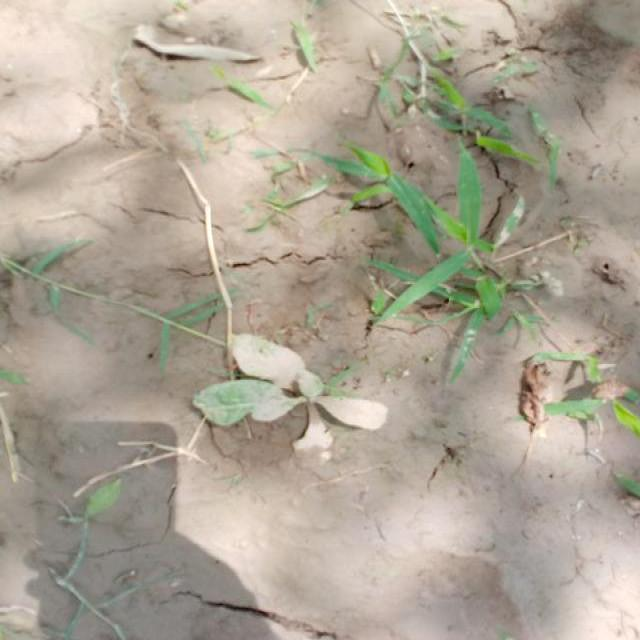crop: (190, 334, 386, 461)
